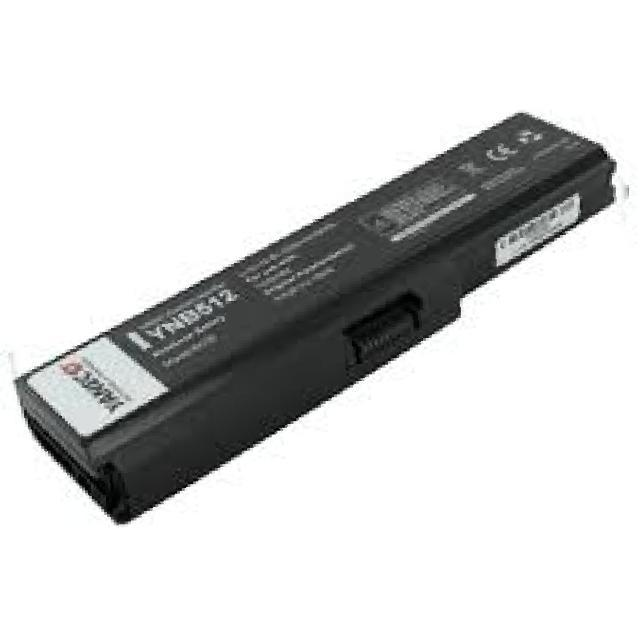Battery: (10, 82, 632, 542)
